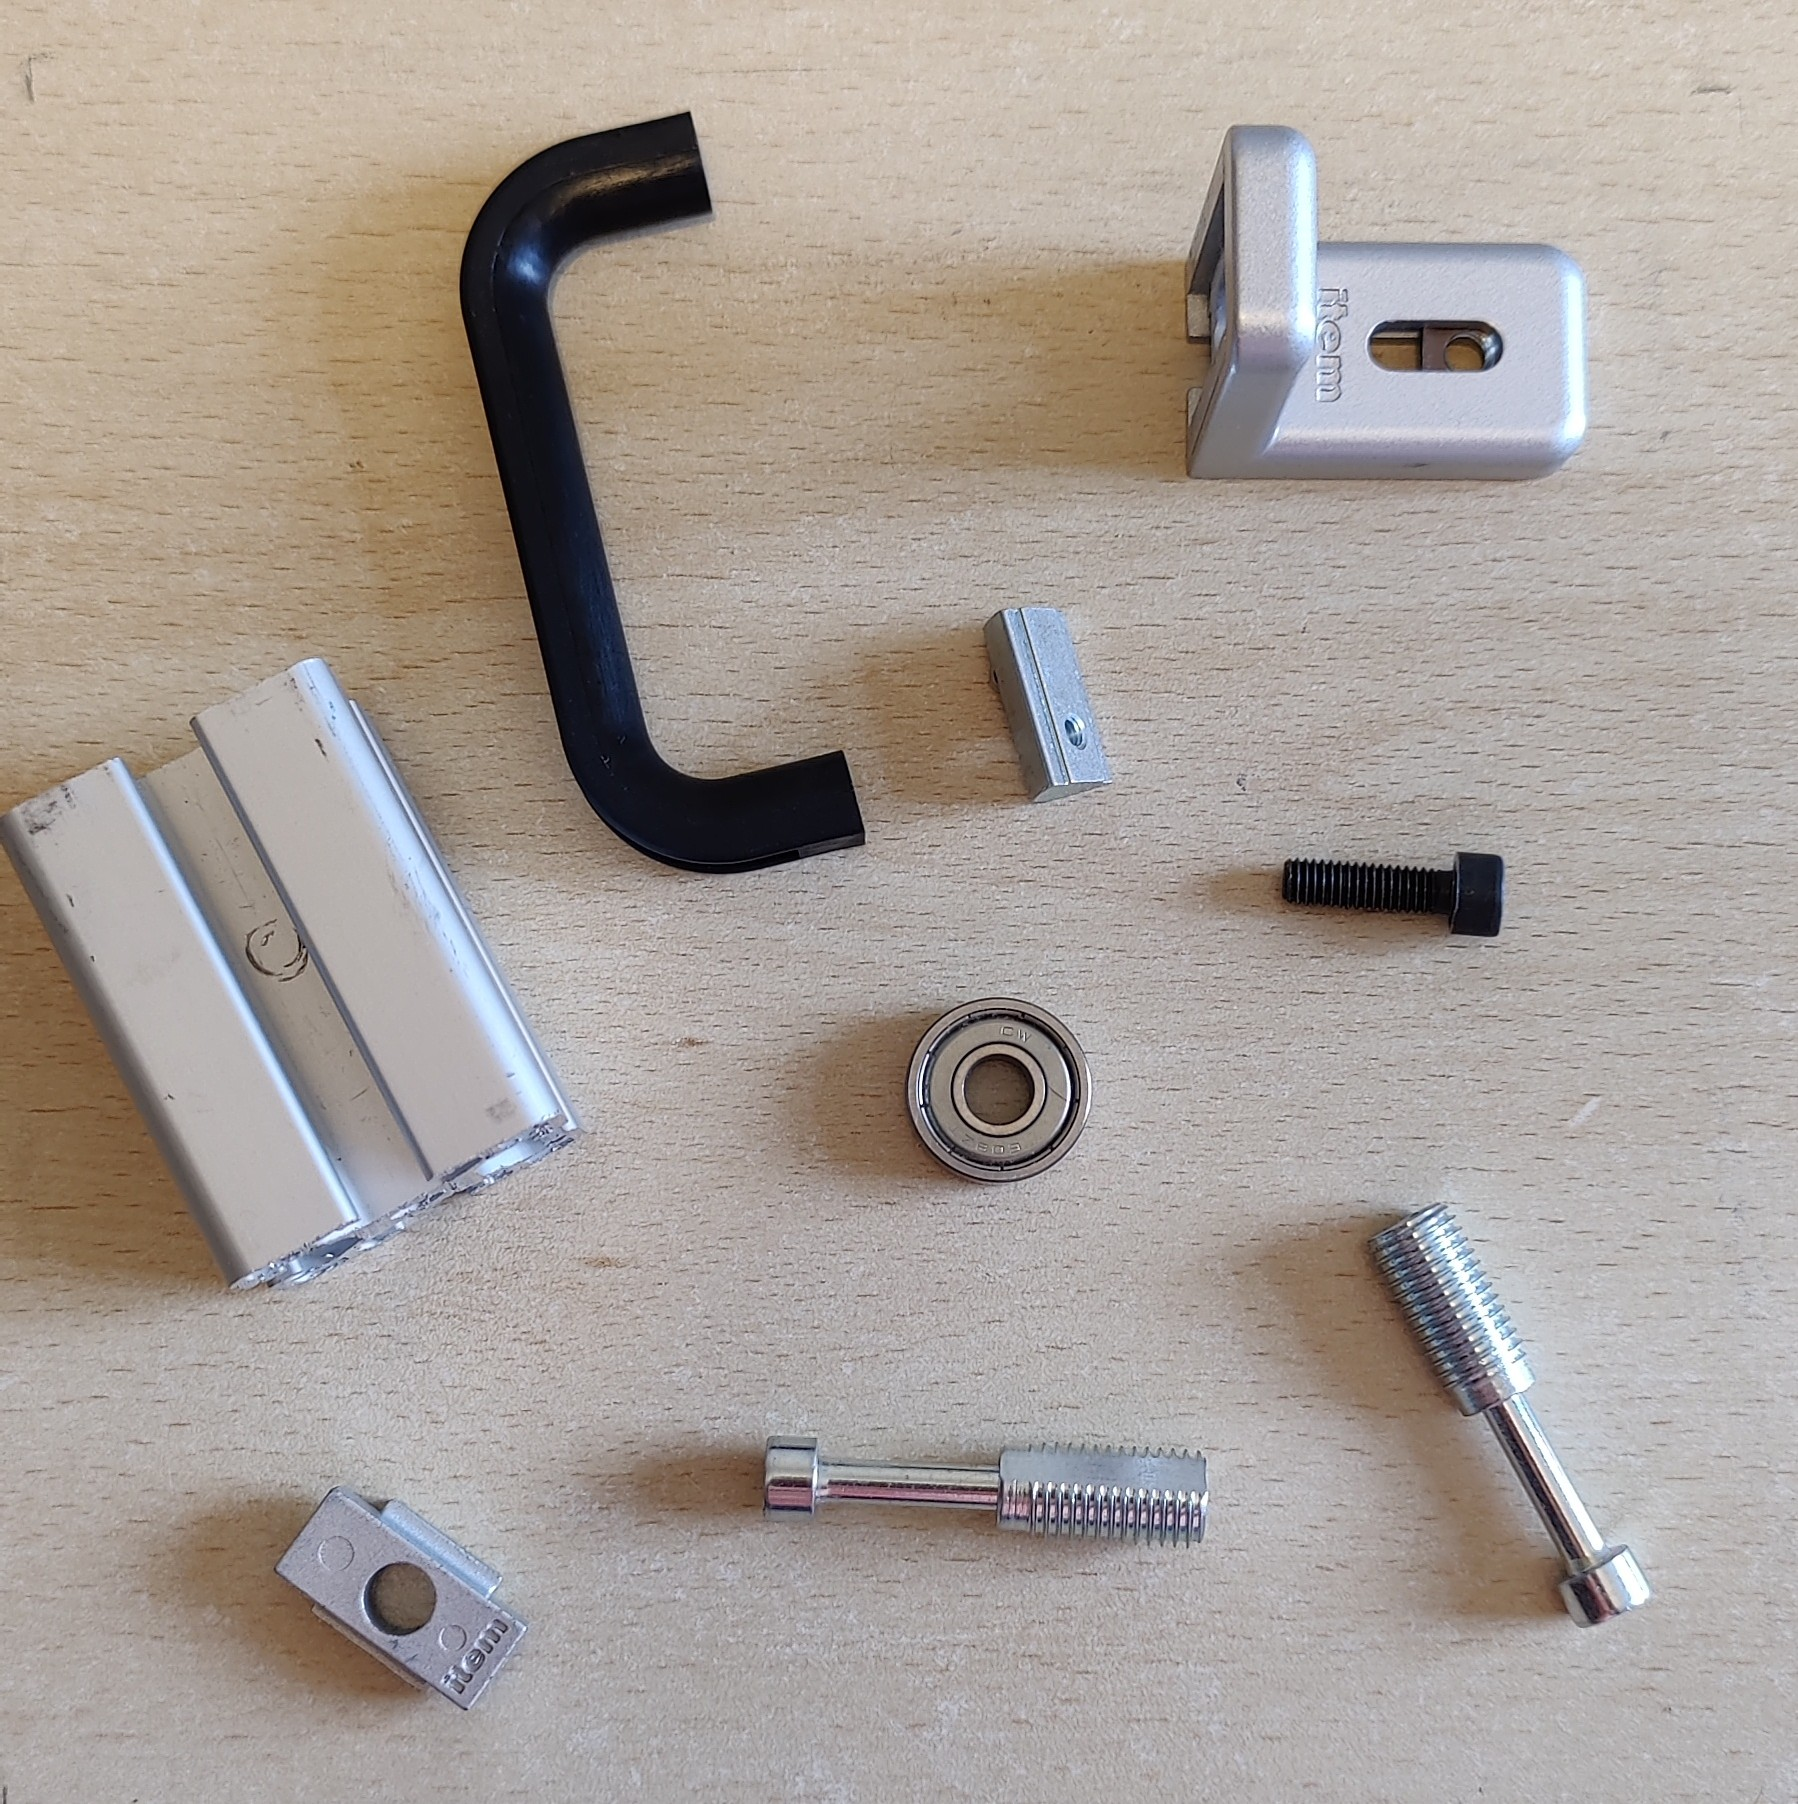Aluminium Extension: (2, 653, 588, 1294)
Ball Bearing: (904, 994, 1095, 1185)
Multiwinkel: (1177, 122, 1592, 484)
Pull Handle: (454, 110, 869, 879)
Shoulder Socket Head Cap Screw: (1365, 1200, 1656, 1630), (761, 1430, 1213, 1552)
Socket Head Cap Screw: (1278, 848, 1507, 942)
T Nut Square: (268, 1485, 532, 1713)
T Spring Nut: (980, 601, 1115, 805)
